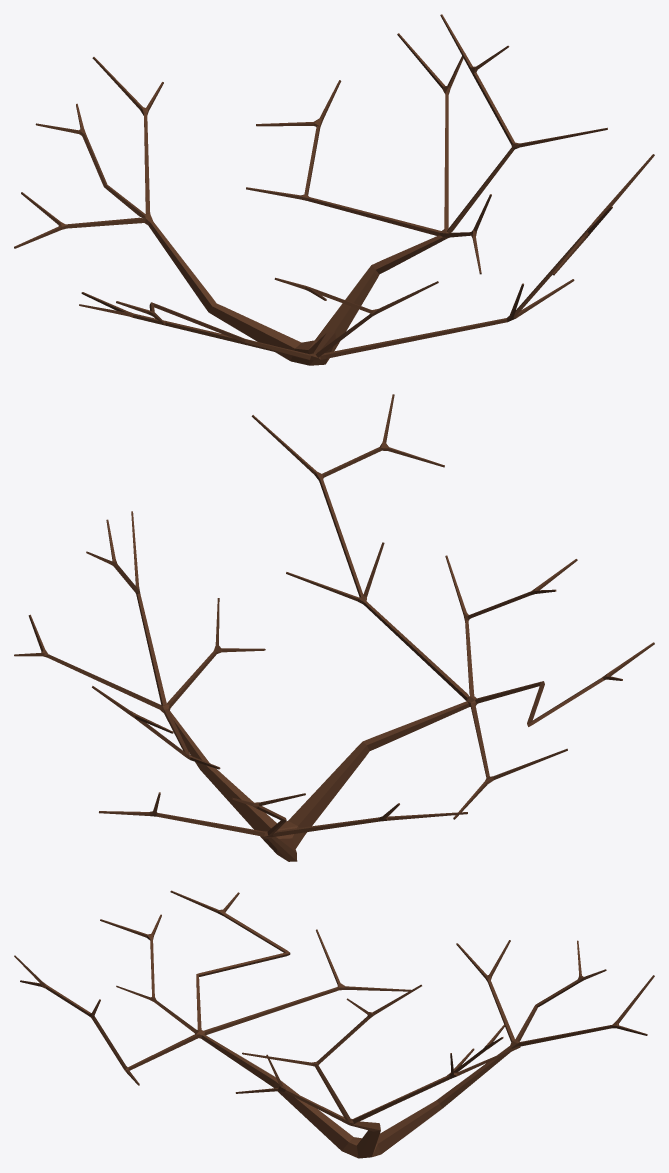
Rendered from deadBush.fbx.
3 renders of one model, top to bottom at view 1: azimuth 30°, elevation 25°; view 2: azimuth 150°, elevation 25°; view 3: azimuth 270°, elevation 25°, orthographic. The views are drawn at different scales.
Visible parts, largest first — view 1: Cube; view 2: Cube; view 3: Cube.
Boxes of the visible parts, left/top/right/bottom form: Cube: left=14, top=14, right=654, bottom=365; Cube: left=14, top=394, right=654, bottom=861; Cube: left=14, top=890, right=654, bottom=1158.
Bounding box in the file's own units: 155 × 84.68 × 205.
